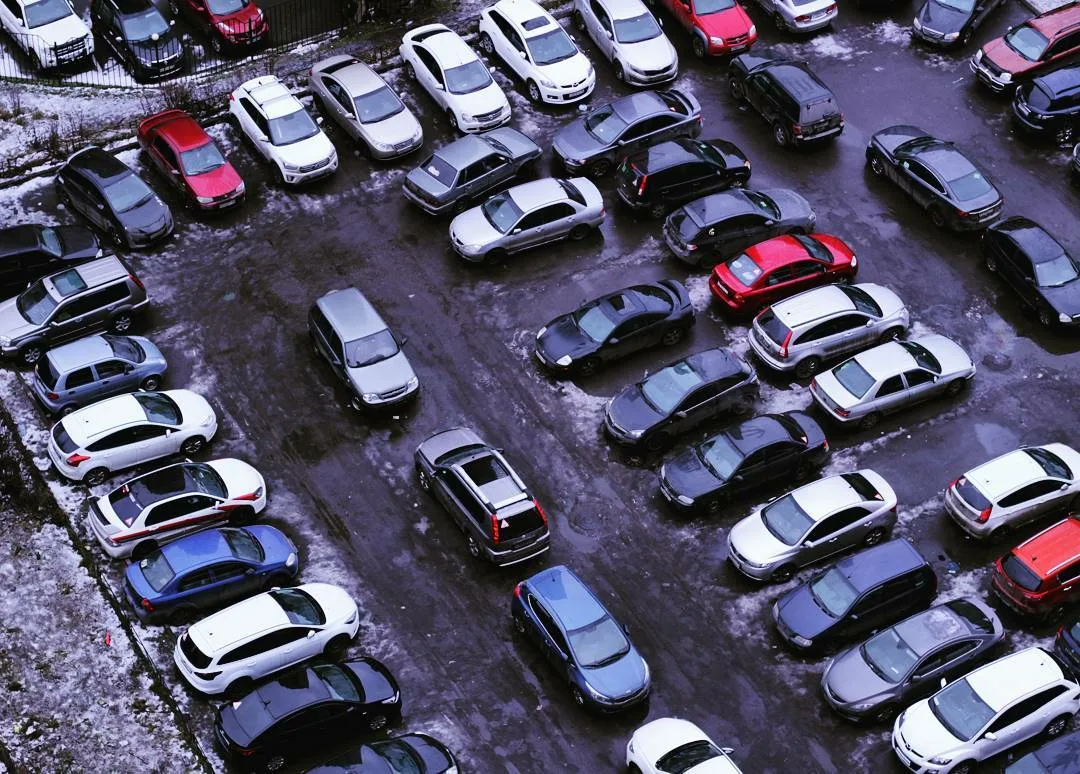Car: (891, 647, 1080, 774), (820, 597, 1005, 723), (215, 657, 403, 774), (173, 583, 361, 697), (510, 566, 652, 714), (726, 469, 898, 583), (770, 538, 938, 654), (414, 427, 551, 568), (87, 458, 268, 559), (659, 411, 830, 514), (124, 524, 301, 623), (602, 347, 759, 454), (0, 255, 149, 365), (48, 390, 218, 484), (809, 334, 976, 427), (748, 283, 910, 378), (535, 279, 695, 374), (866, 125, 1003, 233), (307, 286, 421, 413), (551, 86, 703, 178), (942, 441, 1080, 542), (448, 178, 606, 263), (709, 232, 859, 317), (478, 0, 597, 107), (55, 146, 175, 250), (400, 24, 512, 134), (229, 75, 339, 187), (403, 127, 541, 216), (662, 188, 816, 267), (310, 55, 424, 161), (980, 216, 1080, 334), (136, 109, 246, 213), (727, 50, 844, 147), (33, 334, 167, 416), (615, 138, 752, 218), (971, 0, 1080, 95), (571, 0, 680, 89), (991, 514, 1080, 622), (92, 0, 187, 82), (0, 223, 104, 292), (0, 0, 95, 72), (625, 717, 744, 774), (303, 732, 463, 774), (648, 0, 758, 58), (1010, 62, 1080, 145), (169, 0, 269, 52), (911, 0, 1008, 52), (1003, 730, 1080, 774), (747, 0, 838, 35), (1053, 607, 1080, 679), (1069, 140, 1080, 183)
